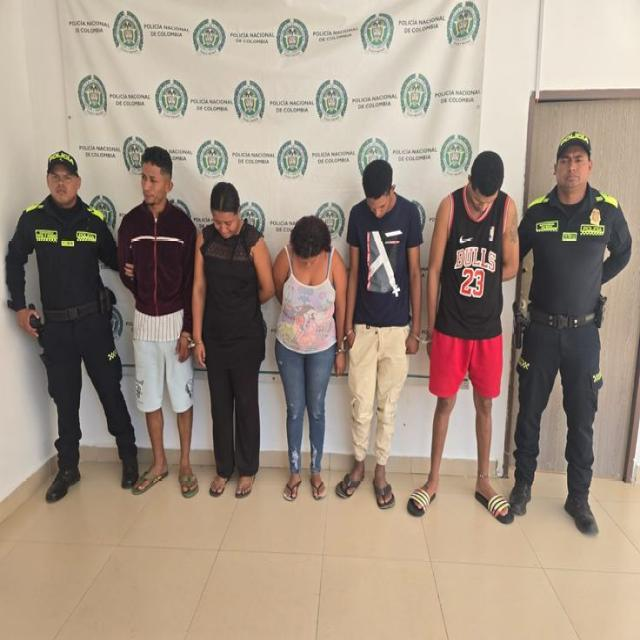9_cabeza_baja: (468, 149, 504, 214)
